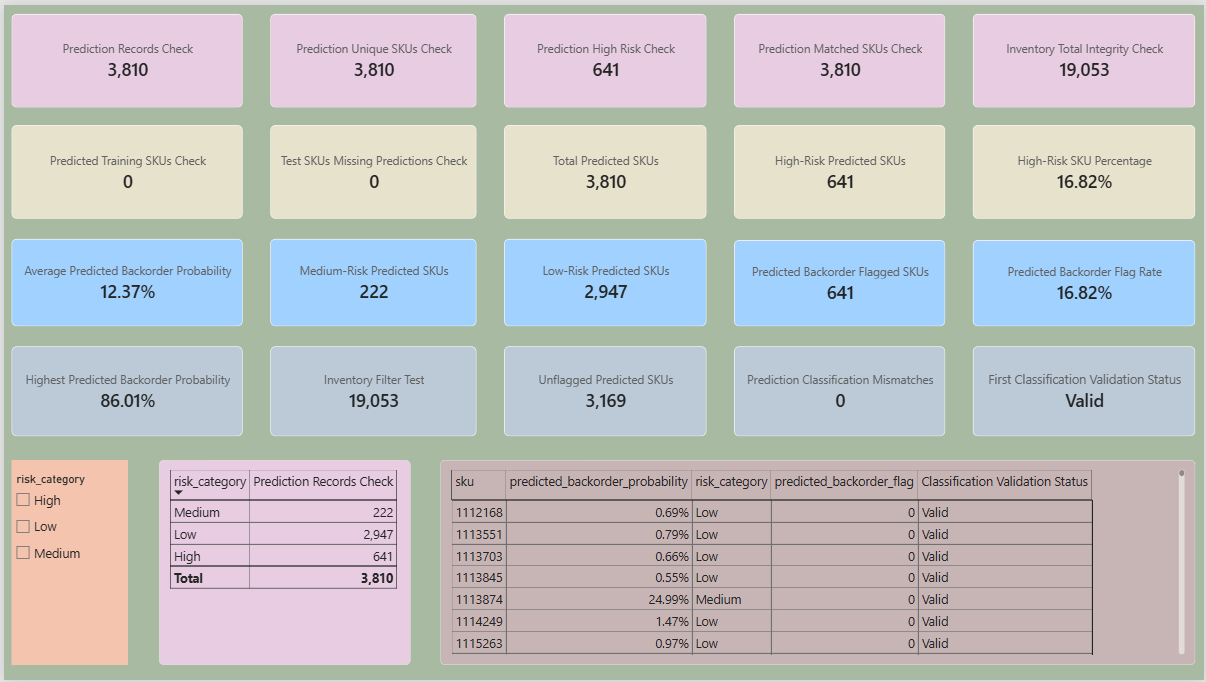

Layout of this report page (visuals, bound fields, positions):
{"tool":"powerbi","page":{"name":"ML Integration QA","canvas":[1920,1080],"ordinal":7},"visuals":[{"type":"tableEx","fields":{"Values":["sku_backorder_predictions.risk_category","sku_backorder_predictions.Prediction Records Check"]},"box":[247,728,402,328],"z":0},{"type":"slicer","fields":{"Values":["sku_backorder_predictions.risk_category"]},"box":[12,728,186,328],"z":1000},{"type":"cardVisual","fields":{"Data":["Min(sku_backorder_predictions.Classification Validation Status)"]},"box":[1550,546,356,144],"z":2000},{"type":"cardVisual","fields":{"Data":["sku_backorder_predictions.Prediction Classification Mismatches"]},"box":[1168,546,338,144],"z":3000},{"type":"tableEx","fields":{"Values":["mart fact_inventory.sku","sku_backorder_predictions.predicted_backorder_probability","sku_backorder_predictions.risk_category","sku_backorder_predictions.predicted_backorder_flag","sku_backorder_predictions.Classification Validation Status"]},"box":[698,728,1208,328],"z":4000},{"type":"cardVisual","fields":{"Data":["sku_backorder_predictions.Prediction Records Check"]},"box":[12,14,370,150],"z":5000},{"type":"cardVisual","fields":{"Data":["sku_backorder_predictions.Prediction Unique SKUs Check"]},"box":[426,14,330,150],"z":6000},{"type":"cardVisual","fields":{"Data":["sku_backorder_predictions.Prediction High Risk Check"]},"box":[800,14,324,150],"z":7000},{"type":"cardVisual","fields":{"Data":["sku_backorder_predictions.Prediction Matched SKUs Check"]},"box":[1168,14,338,150],"z":8000},{"type":"cardVisual","fields":{"Data":["mart fact_inventory.Inventory Total Integrity Check"]},"box":[1550,14,356,150],"z":9000},{"type":"cardVisual","fields":{"Data":["mart fact_inventory.Predicted Training SKUs Check"]},"box":[12,192,370,150],"z":10000},{"type":"cardVisual","fields":{"Data":["mart fact_inventory.Test SKUs Missing Predictions Check"]},"box":[426,192,330,150],"z":11000},{"type":"cardVisual","fields":{"Data":["sku_backorder_predictions.Total Predicted SKUs"]},"box":[800,192,324,150],"z":12000},{"type":"cardVisual","fields":{"Data":["sku_backorder_predictions.High-Risk Predicted SKUs"]},"box":[1168,192,338,150],"z":13000},{"type":"cardVisual","fields":{"Data":["sku_backorder_predictions.High-Risk SKU Percentage"]},"box":[1550,192,356,150],"z":14000},{"type":"cardVisual","fields":{"Data":["sku_backorder_predictions.Average Predicted Backorder Probability"]},"box":[12,374,370,140],"z":15000},{"type":"cardVisual","fields":{"Data":["sku_backorder_predictions.Medium-Risk Predicted SKUs"]},"box":[426,374,330,140],"z":16000},{"type":"cardVisual","fields":{"Data":["sku_backorder_predictions.Low-Risk Predicted SKUs"]},"box":[800,374,324,140],"z":17000},{"type":"cardVisual","fields":{"Data":["sku_backorder_predictions.Predicted Backorder Flagged SKUs"]},"box":[1168,376,338,138],"z":18000},{"type":"cardVisual","fields":{"Data":["sku_backorder_predictions.Predicted Backorder Flag Rate"]},"box":[1550,376,356,138],"z":19000},{"type":"cardVisual","fields":{"Data":["sku_backorder_predictions.Highest Predicted Backorder Probability"]},"box":[12,546,370,144],"z":20000},{"type":"cardVisual","fields":{"Data":["mart fact_inventory.Inventory Filter Test"]},"box":[426,546,330,144],"z":21000},{"type":"cardVisual","fields":{"Data":["sku_backorder_predictions.Unflagged Predicted SKUs"]},"box":[800,546,324,144],"z":22000}]}

Visuals, with their boxes in screenshot pixels (x1, y1, x2, y2), scaled from the page's 1920x1080 canvas onto the 1206x682 screenshot:
tableEx - sku_backorder_predictions.risk_category x sku_backorder_predictions.Prediction Records Check: left=155, top=460, right=408, bottom=667
slicer - sku_backorder_predictions.risk_category: left=8, top=460, right=124, bottom=667
cardVisual - Min(sku_backorder_predictions.Classification Validation Status): left=974, top=345, right=1197, bottom=436
cardVisual - sku_backorder_predictions.Prediction Classification Mismatches: left=734, top=345, right=946, bottom=436
tableEx - mart fact_inventory.sku x sku_backorder_predictions.predicted_backorder_probability: left=438, top=460, right=1197, bottom=667
cardVisual - sku_backorder_predictions.Prediction Records Check: left=8, top=9, right=240, bottom=104
cardVisual - sku_backorder_predictions.Prediction Unique SKUs Check: left=268, top=9, right=475, bottom=104
cardVisual - sku_backorder_predictions.Prediction High Risk Check: left=503, top=9, right=706, bottom=104
cardVisual - sku_backorder_predictions.Prediction Matched SKUs Check: left=734, top=9, right=946, bottom=104
cardVisual - mart fact_inventory.Inventory Total Integrity Check: left=974, top=9, right=1197, bottom=104
cardVisual - mart fact_inventory.Predicted Training SKUs Check: left=8, top=121, right=240, bottom=216
cardVisual - mart fact_inventory.Test SKUs Missing Predictions Check: left=268, top=121, right=475, bottom=216
cardVisual - sku_backorder_predictions.Total Predicted SKUs: left=503, top=121, right=706, bottom=216
cardVisual - sku_backorder_predictions.High-Risk Predicted SKUs: left=734, top=121, right=946, bottom=216
cardVisual - sku_backorder_predictions.High-Risk SKU Percentage: left=974, top=121, right=1197, bottom=216
cardVisual - sku_backorder_predictions.Average Predicted Backorder Probability: left=8, top=236, right=240, bottom=325
cardVisual - sku_backorder_predictions.Medium-Risk Predicted SKUs: left=268, top=236, right=475, bottom=325
cardVisual - sku_backorder_predictions.Low-Risk Predicted SKUs: left=503, top=236, right=706, bottom=325
cardVisual - sku_backorder_predictions.Predicted Backorder Flagged SKUs: left=734, top=237, right=946, bottom=325
cardVisual - sku_backorder_predictions.Predicted Backorder Flag Rate: left=974, top=237, right=1197, bottom=325
cardVisual - sku_backorder_predictions.Highest Predicted Backorder Probability: left=8, top=345, right=240, bottom=436
cardVisual - mart fact_inventory.Inventory Filter Test: left=268, top=345, right=475, bottom=436
cardVisual - sku_backorder_predictions.Unflagged Predicted SKUs: left=503, top=345, right=706, bottom=436
